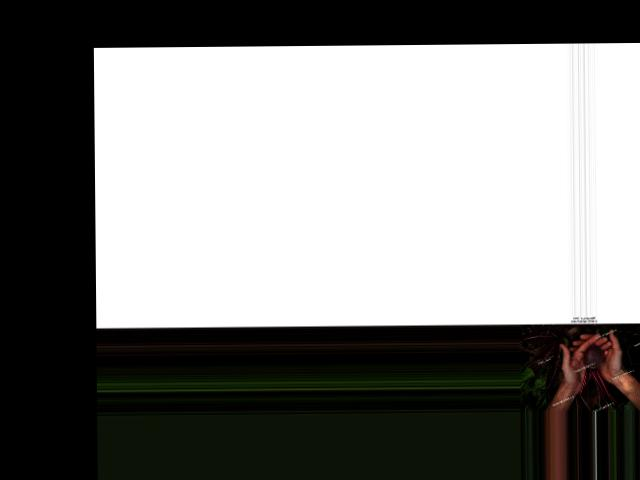beet: (577, 343, 617, 409)
